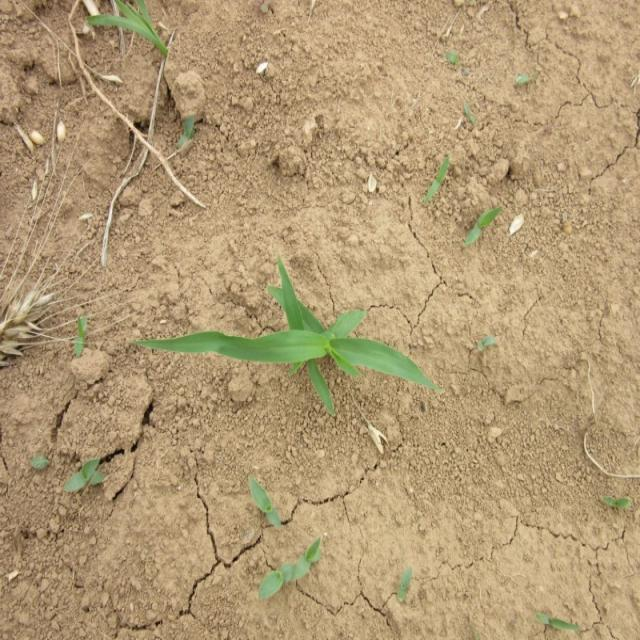bg: (123, 248, 438, 422)
